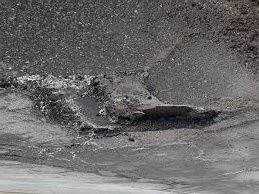pothole: (18, 67, 115, 138), (116, 102, 227, 133), (101, 71, 160, 106)
